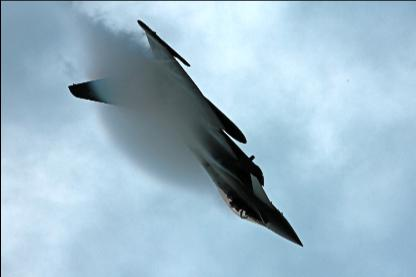E2: (67, 20, 302, 245)
